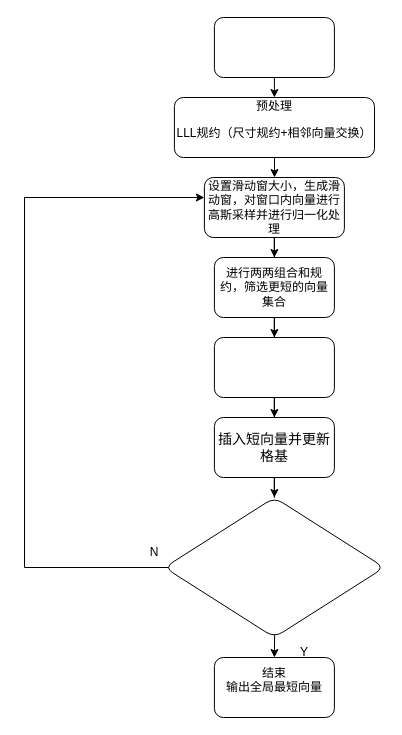
Image size: 402x735. Some labels were removed from this diagram. The box of each missing label's shape, as (x1, y1, x2, y2) in pixels:
开始 输入初始格基B: (213, 16, 334, 78)
是否收敛 （最短向量 长度连续k次迭代无下降 ||迭代次数≥T || 最短长度小于阈值）: (163, 496, 384, 638)
筛选子格中的最短向量: (213, 336, 334, 398)
